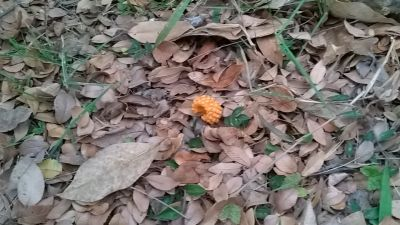eggs: (191, 94, 222, 125)
